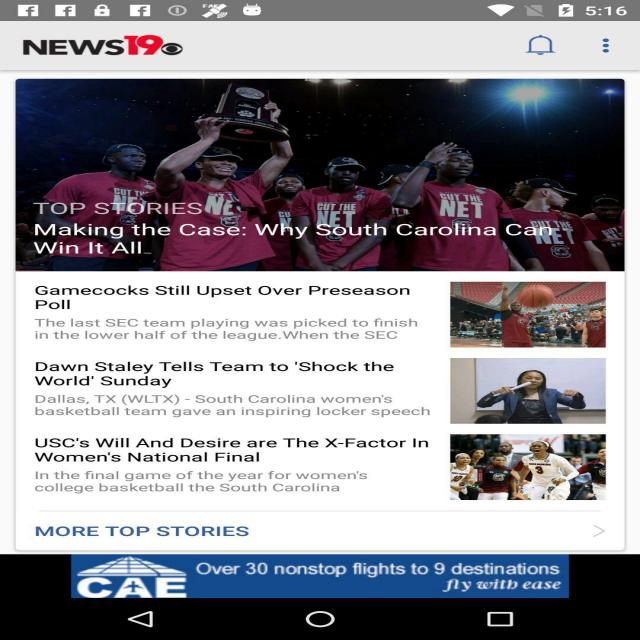image: (31, 76, 604, 268)
text: (24, 185, 621, 541)
